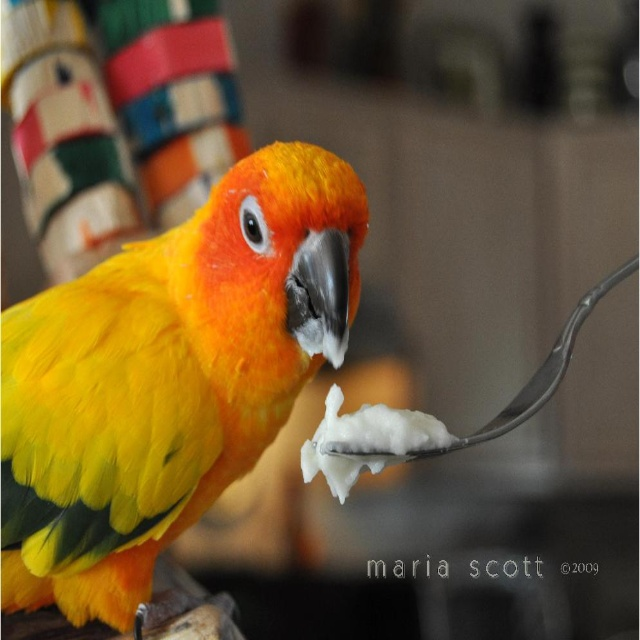Parrot: (0, 138, 370, 639)
